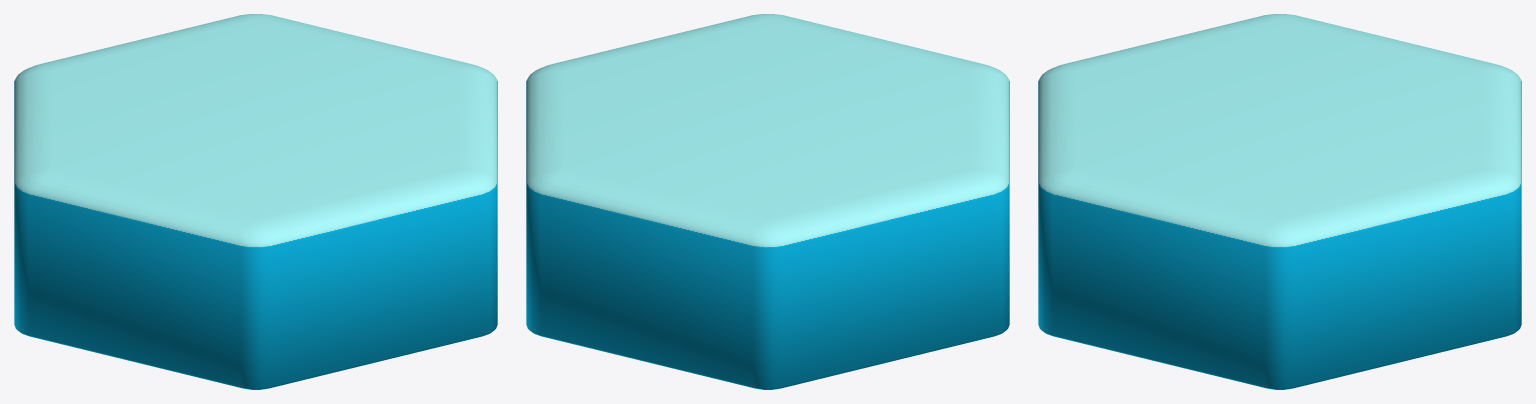
The model's file is Hexagon.fbx.
The picture shows the model from 3 angles, left to right: view 1: azimuth 30°, elevation 25°; view 2: azimuth 150°, elevation 25°; view 3: azimuth 270°, elevation 25°; orthographic projection.
Parts seen in each view (by area): view 1: Cylinder.006; view 2: Cylinder.006; view 3: Cylinder.006.
Part boxes in pixels (x1,y1,x2,y2): Cylinder.006: (14, 14, 497, 389); Cylinder.006: (526, 14, 1009, 389); Cylinder.006: (1038, 14, 1521, 389).
Size of the model in its own units: 197 by 62.31 by 173.
Materials: 1 (1 with a texture image).
